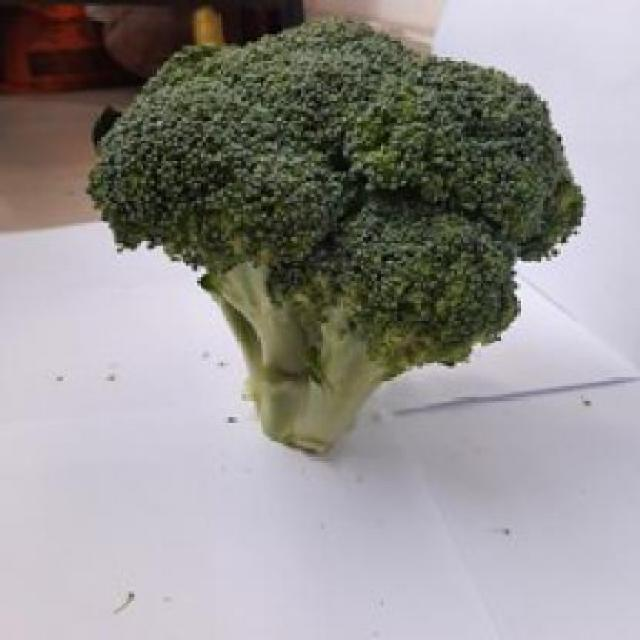broccoli: (99, 21, 578, 468)
